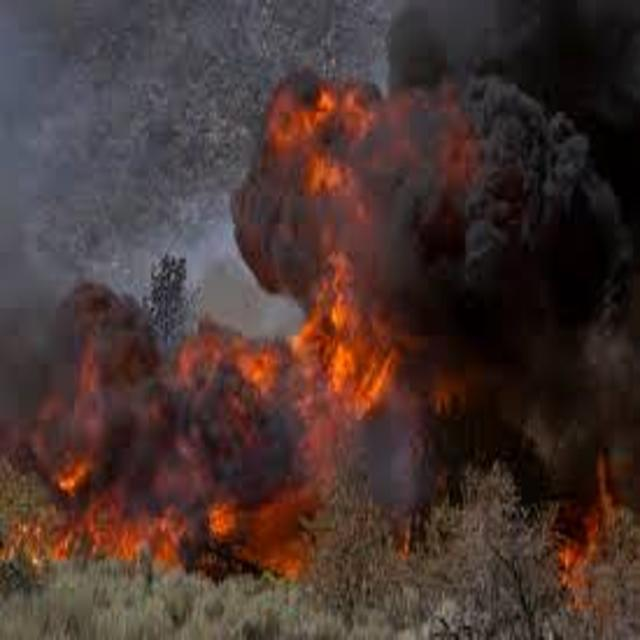Fire: (31, 491, 311, 580), (548, 450, 636, 606)
Smoke: (235, 70, 629, 283), (0, 282, 299, 484), (306, 283, 562, 482), (564, 284, 640, 446)
